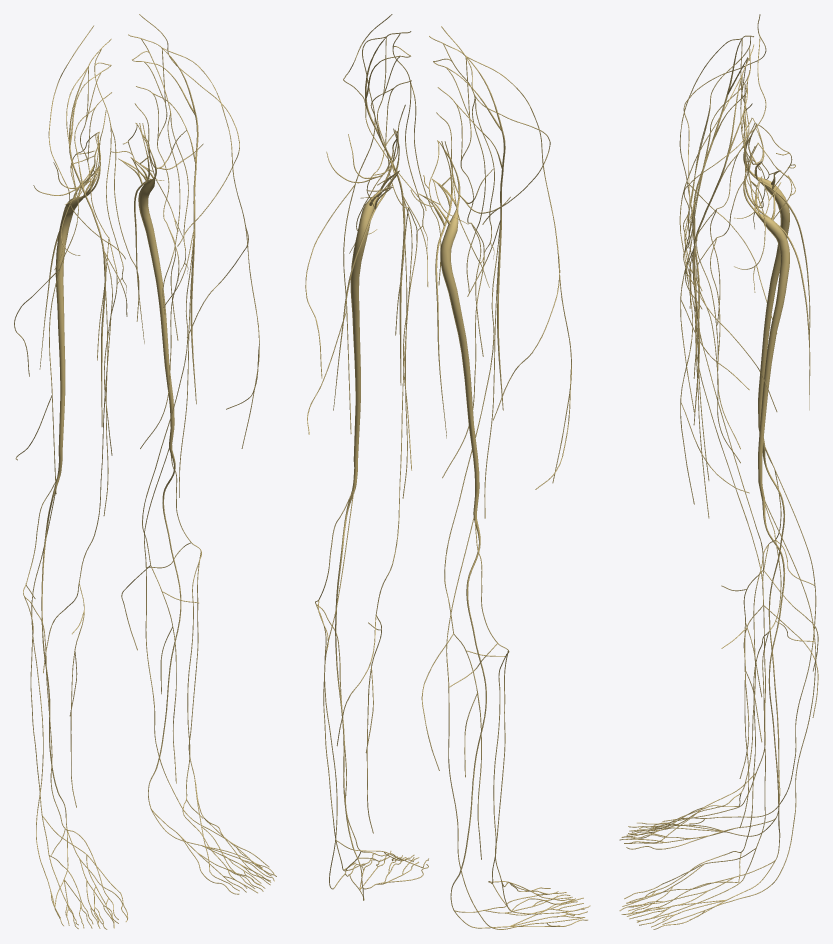
Rendered from nervous-lower-limb-mobile.glb.
3 renders of one model, left to right at view 1: azimuth 30°, elevation 25°; view 2: azimuth 150°, elevation 25°; view 3: azimuth 270°, elevation 25°, orthographic. The views are drawn at different scales.
Parts seen in each view (by area): view 1: za.sciatic-nerve-r, za.sciatic-nerve-l, za.femoral-nerve-l, za.femoral-nerve-r, za.saphenous-nerve-l, za.saphenous-nerve-r, za.lateral-femoral-cutaneous-nerve-r, za.lateral-femoral-cutaneous-nerve-l, za.tibial-nerve-l, za.tibial-nerve-r, za.sural-nerve-l; view 2: za.sciatic-nerve-r, za.sciatic-nerve-l, za.saphenous-nerve-r, za.saphenous-nerve-l, za.lateral-femoral-cutaneous-nerve-l, za.lateral-femoral-cutaneous-nerve-r, za.femoral-nerve-r, za.femoral-nerve-l, za.tibial-nerve-r, za.tibial-nerve-l, za.sural-nerve-r; view 3: za.sciatic-nerve-l, za.sciatic-nerve-r, za.saphenous-nerve-l, za.lateral-femoral-cutaneous-nerve-l, za.femoral-nerve-l, za.saphenous-nerve-r, za.lateral-femoral-cutaneous-nerve-r, za.femoral-nerve-r, za.tibial-nerve-l, za.tibial-nerve-r, za.sural-nerve-l, za.sural-nerve-r (+3 smaller).
Part boxes in pixels (left/top/right/bottom): za.sciatic-nerve-r: left=55, top=133, right=99, bottom=471; za.sciatic-nerve-l: left=120, top=123, right=174, bottom=444; za.femoral-nerve-l: left=128, top=34, right=198, bottom=404; za.femoral-nerve-r: left=69, top=38, right=111, bottom=426; za.saphenous-nerve-l: left=121, top=231, right=194, bottom=783; za.saphenous-nerve-r: left=43, top=253, right=112, bottom=807; za.lateral-femoral-cutaneous-nerve-r: left=14, top=66, right=88, bottom=493; za.lateral-femoral-cutaneous-nerve-l: left=162, top=48, right=259, bottom=448; za.tibial-nerve-l: left=148, top=444, right=181, bottom=807; za.tibial-nerve-r: left=41, top=471, right=67, bottom=827; za.sural-nerve-l: left=144, top=528, right=269, bottom=867; za.sciatic-nerve-r: left=418, top=141, right=479, bottom=512; za.sciatic-nerve-l: left=350, top=130, right=397, bottom=483; za.saphenous-nerve-r: left=421, top=226, right=499, bottom=859; za.saphenous-nerve-l: left=336, top=198, right=412, bottom=833; za.lateral-femoral-cutaneous-nerve-l: left=305, top=36, right=385, bottom=434; za.lateral-femoral-cutaneous-nerve-r: left=466, top=56, right=571, bottom=489; za.femoral-nerve-r: left=429, top=36, right=505, bottom=410; za.femoral-nerve-l: left=365, top=31, right=411, bottom=385; za.tibial-nerve-r: left=450, top=512, right=486, bottom=909; za.tibial-nerve-l: left=335, top=483, right=363, bottom=887; za.sural-nerve-r: left=446, top=634, right=582, bottom=929; za.sciatic-nerve-l: left=743, top=145, right=789, bottom=497; za.sciatic-nerve-r: left=743, top=123, right=789, bottom=442; za.saphenous-nerve-l: left=689, top=251, right=818, bottom=827; za.lateral-femoral-cutaneous-nerve-l: left=679, top=74, right=777, bottom=504; za.femoral-nerve-l: left=692, top=44, right=753, bottom=425; za.saphenous-nerve-r: left=689, top=205, right=818, bottom=778; za.lateral-femoral-cutaneous-nerve-r: left=679, top=38, right=777, bottom=412; za.femoral-nerve-r: left=692, top=35, right=753, bottom=378; za.tibial-nerve-l: left=761, top=497, right=785, bottom=859; za.tibial-nerve-r: left=762, top=442, right=784, bottom=818; za.sural-nerve-l: left=662, top=594, right=816, bottom=924; za.sural-nerve-r: left=662, top=544, right=816, bottom=824.
Bounding box in the file's own units: 0.3174 × 1.11 × 0.2357.
